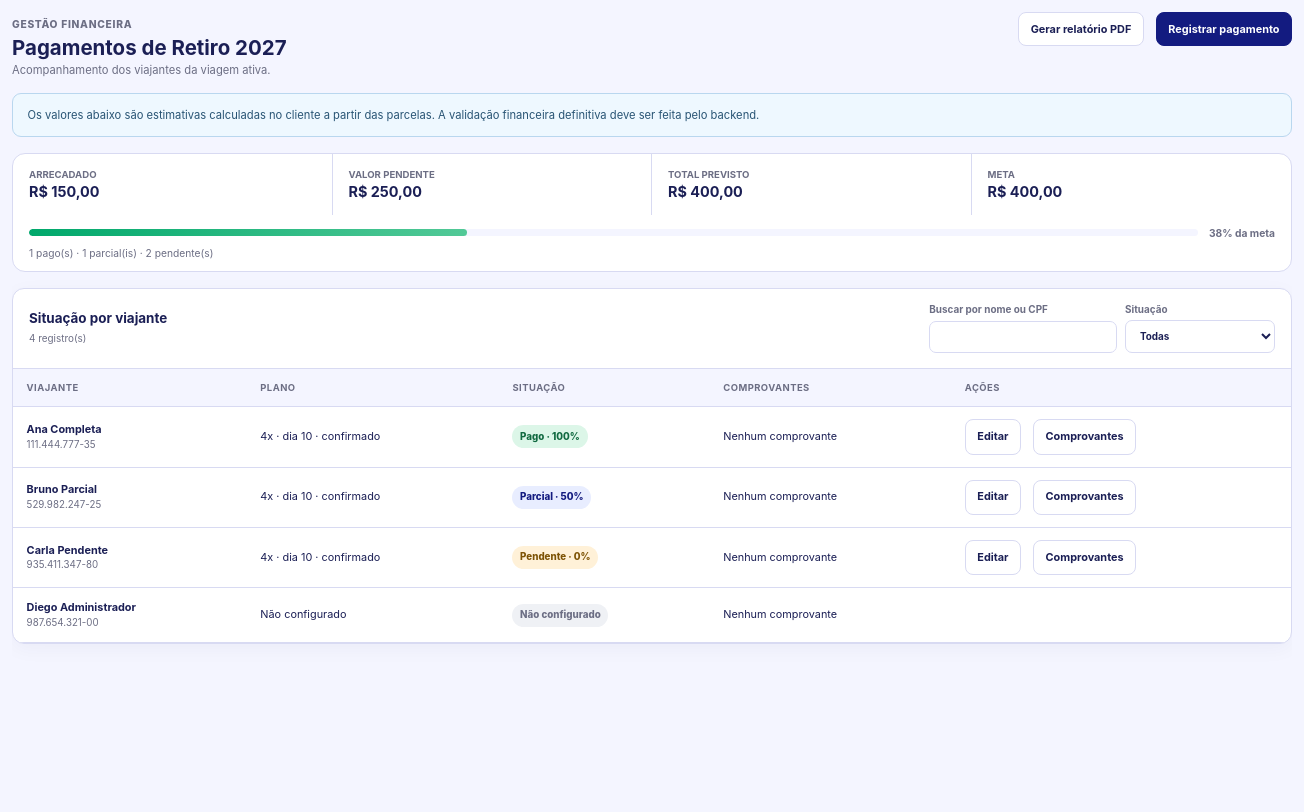
Test case: AdminPaymentsPage › filtra por busca e situação
Type "529.982" into the field labelled "Buscar por nome ou CPF". click: coordinates (1023, 337)
box: x1=929 y1=320 x2=1117 y2=353
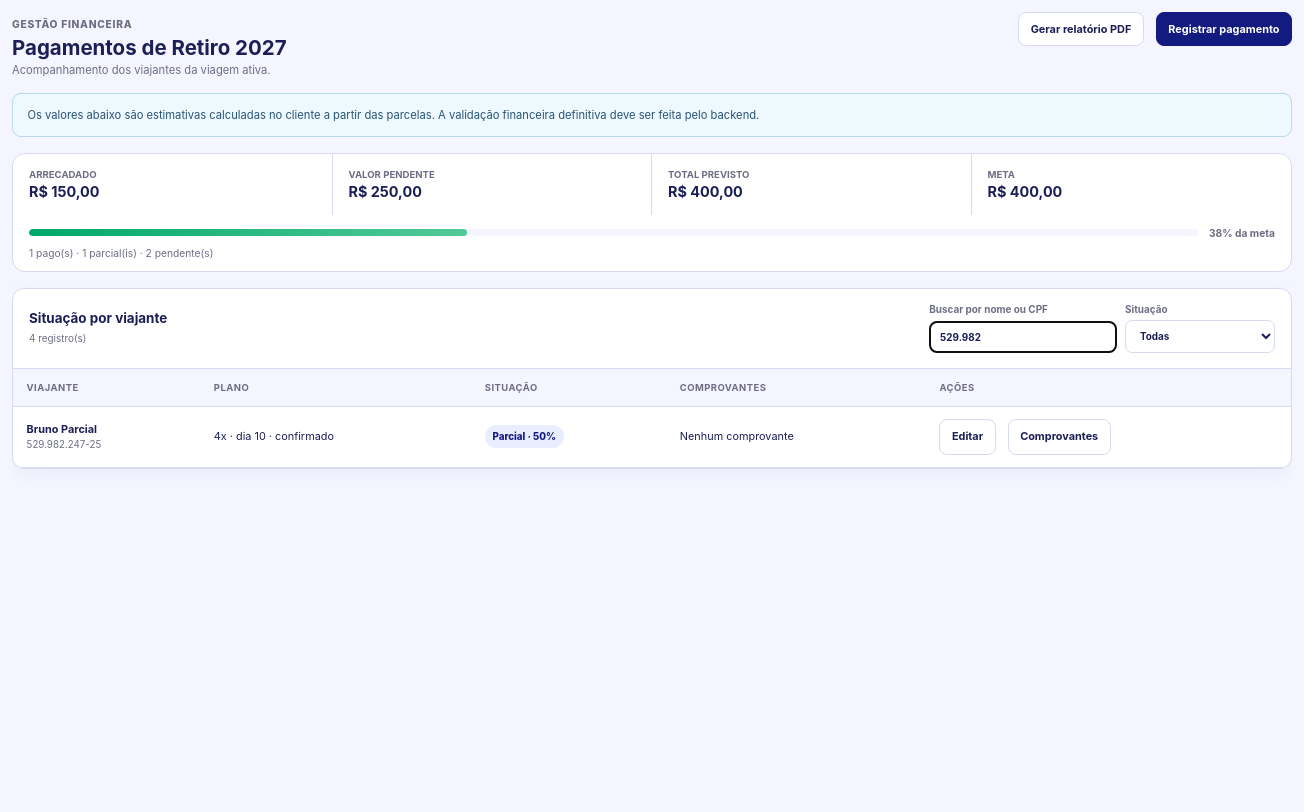
Check: the text "Bruno Parcial" is shown, box x1=27 y1=422 x2=97 y2=436
Check: the text "Ana Completa" is gone
Clear the field labelled "Buscar por nome ou CPF". click: coordinates (1023, 337)
box: x1=929 y1=320 x2=1117 y2=353
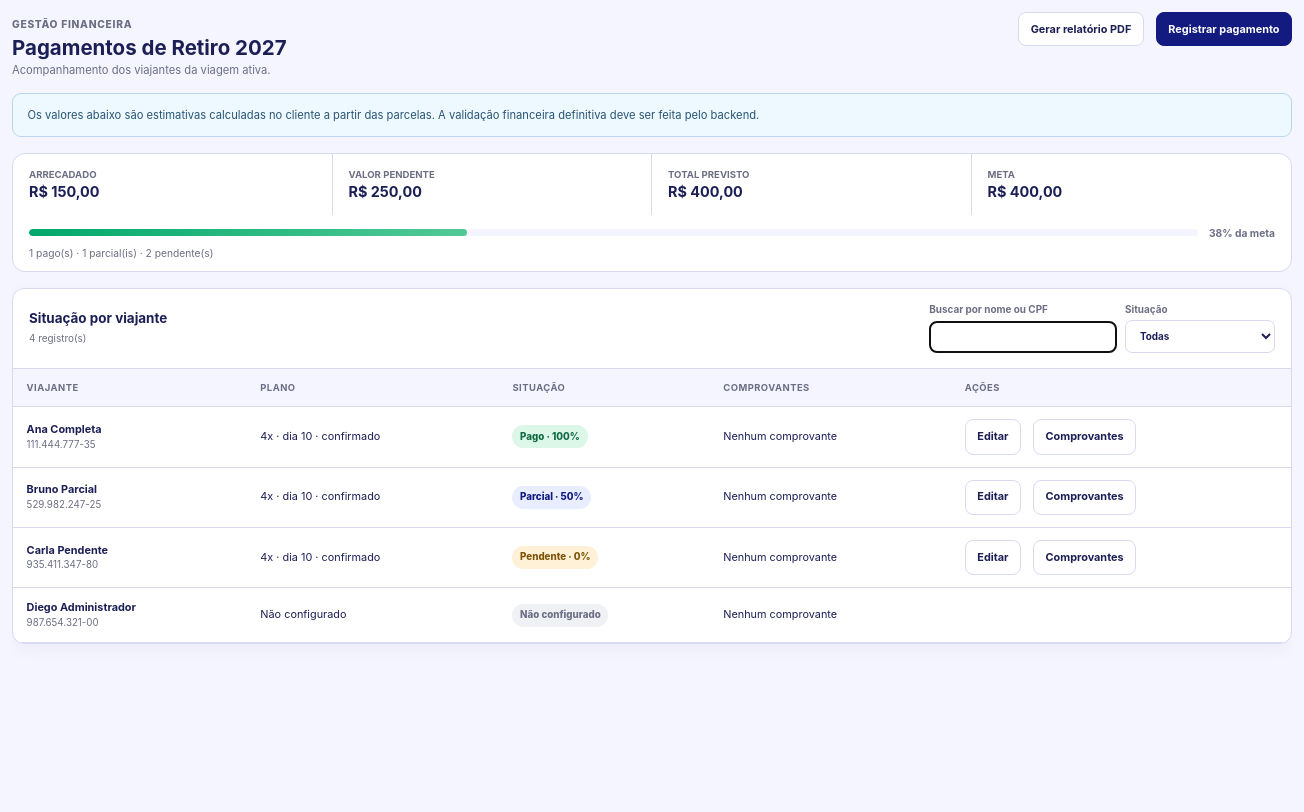
Select "Pendentes" in the dropdown labelled "Situação". click: coordinates (1200, 336)
box: x1=1125 y1=320 x2=1275 y2=353
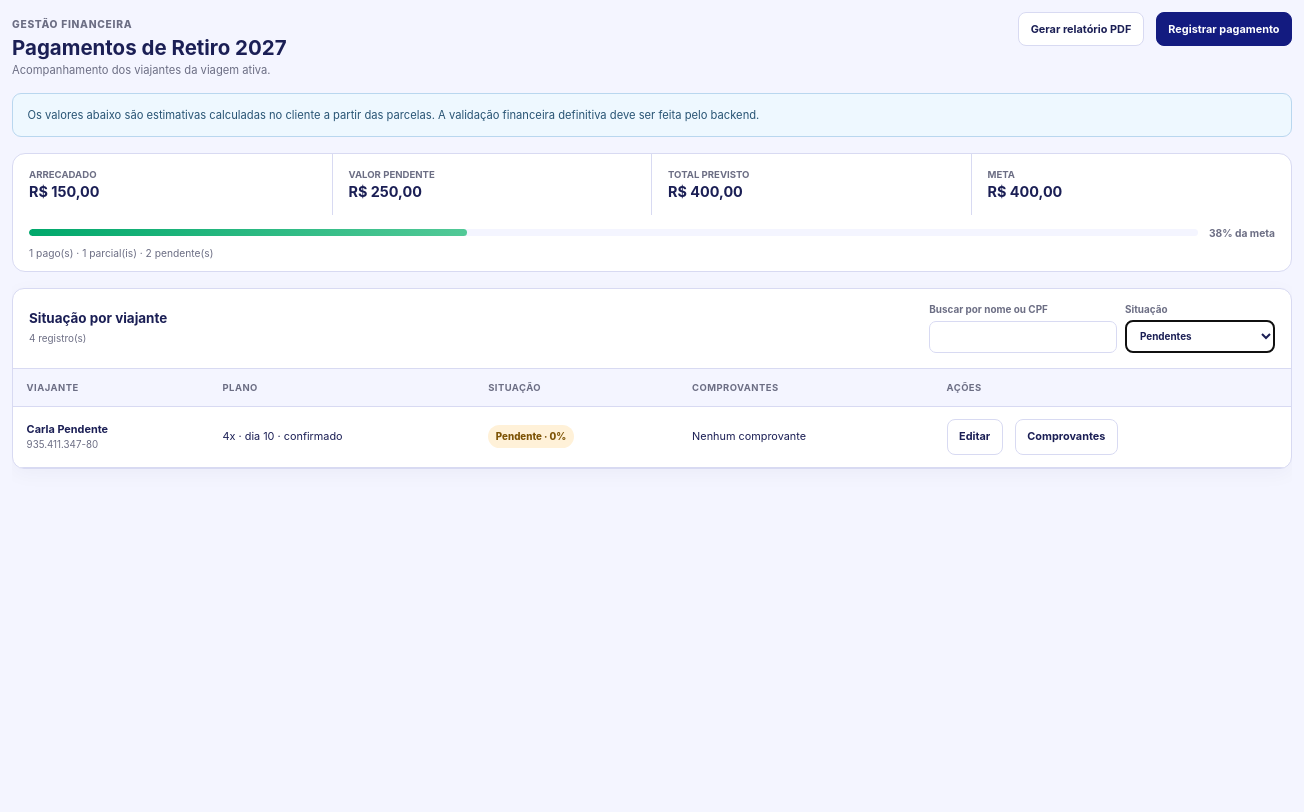
Check: the text "Carla Pendente" is shown, box x1=27 y1=422 x2=108 y2=436
Check: the text "Bruno Parcial" is gone
